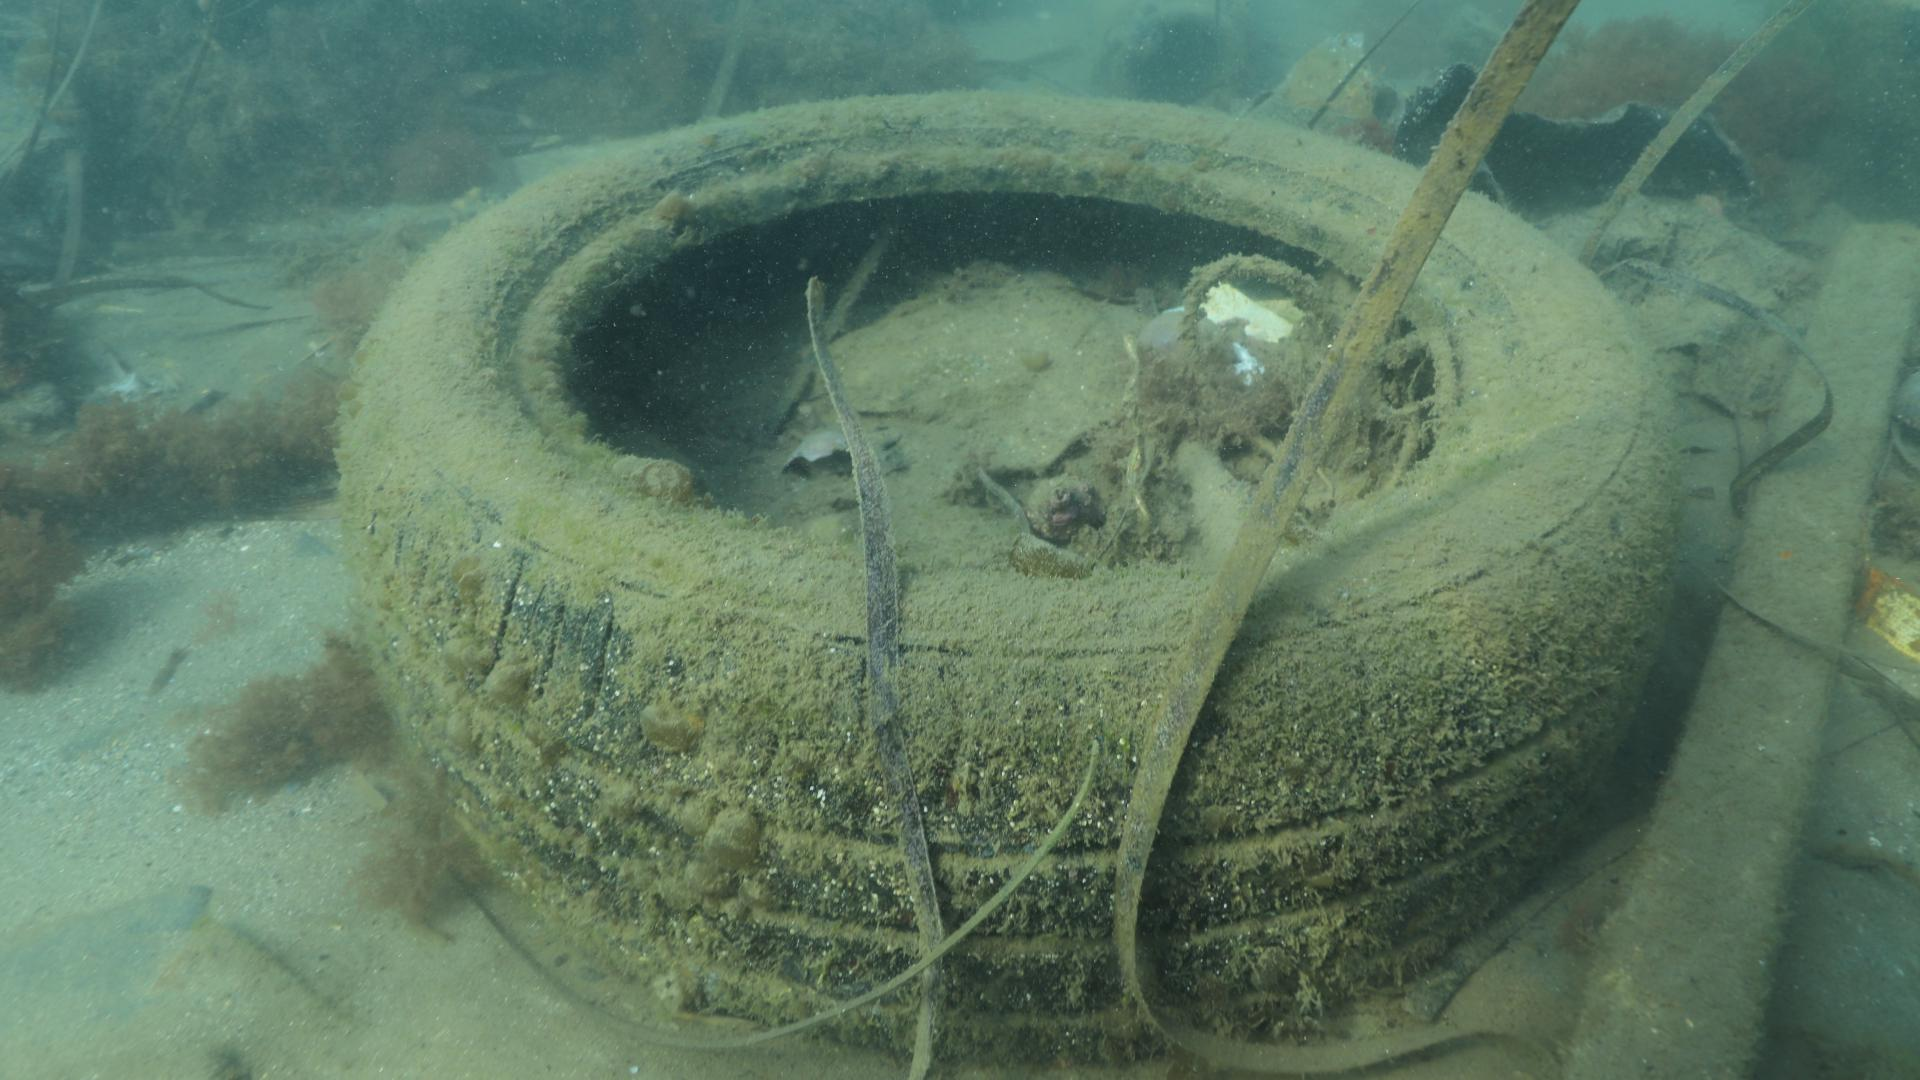tire: (338, 86, 1683, 1069)
